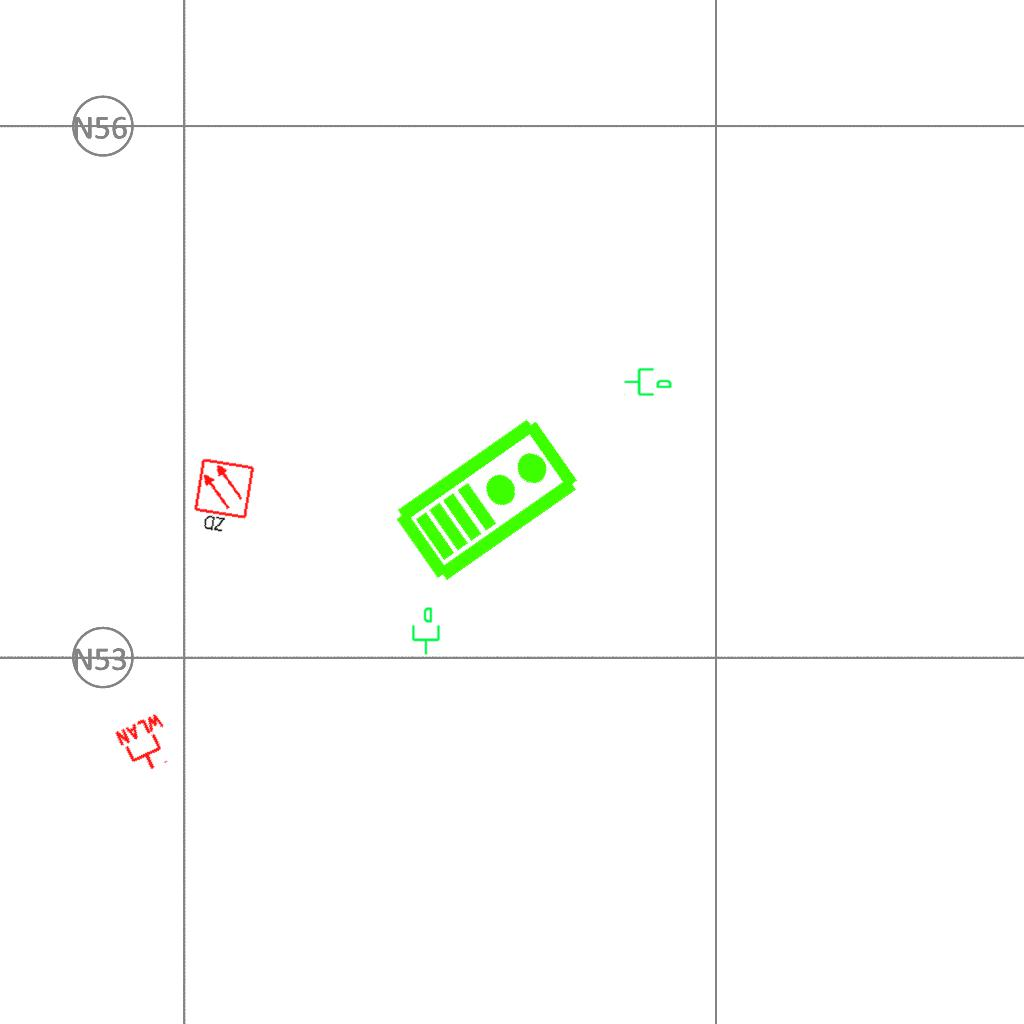Datenanschluss_einfach: (408, 606, 442, 656), (623, 364, 673, 398)
Gegensprechanlage_mit_Video: (387, 408, 586, 588)
WLAN: (112, 710, 182, 780)
ZD_Melder_in_Zwischendecke_mit_Revisionsoeffnung_mind_40_x_40_cm: (189, 456, 258, 540)
